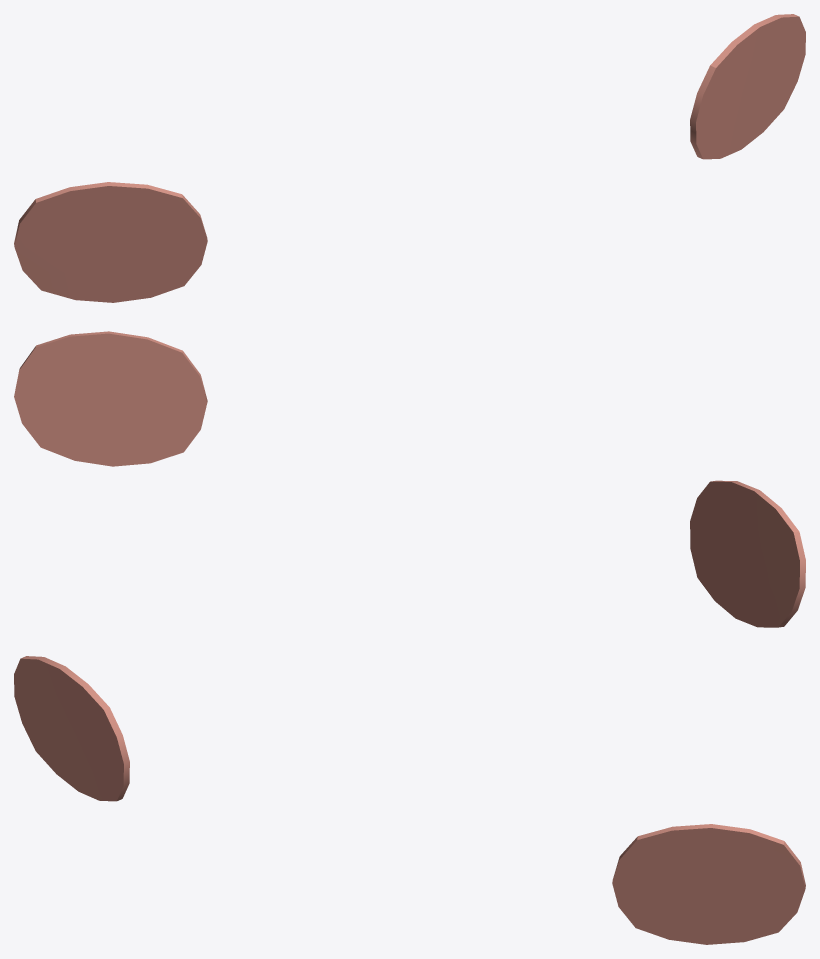
The picture shows the model from 3 angles, top to bottom: view 1: azimuth 30°, elevation 25°; view 2: azimuth 150°, elevation 25°; view 3: azimuth 330°, elevation 25°; orthographic projection.
Visible parts, largest first — view 1: blushing; view 2: blushing; view 3: blushing.
Part boxes in pixels (x1,y1,x2,y2): blushing: [14, 14, 805, 302]; blushing: [14, 331, 805, 627]; blushing: [14, 656, 805, 944].
Size of the model in its own units: 1.25 by 0.1906 by 0.1238.
